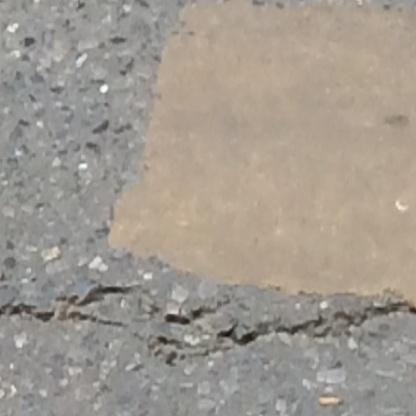Cracks: (195, 294, 416, 362), (0, 280, 140, 330), (161, 292, 234, 330), (144, 332, 190, 372)
